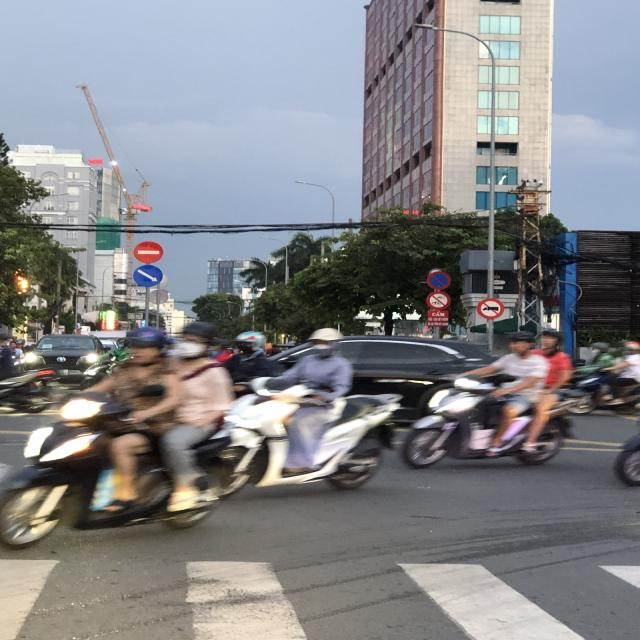Bien bao cam di nguoc chieu: (130, 240, 165, 264)
Bien bao cam do xe: (426, 270, 451, 290)
Bien bao cam xe so-mi ro-mooc: (476, 298, 504, 320)
Bien bao huong phai di vong chuong ngai vat: (132, 262, 162, 289)
